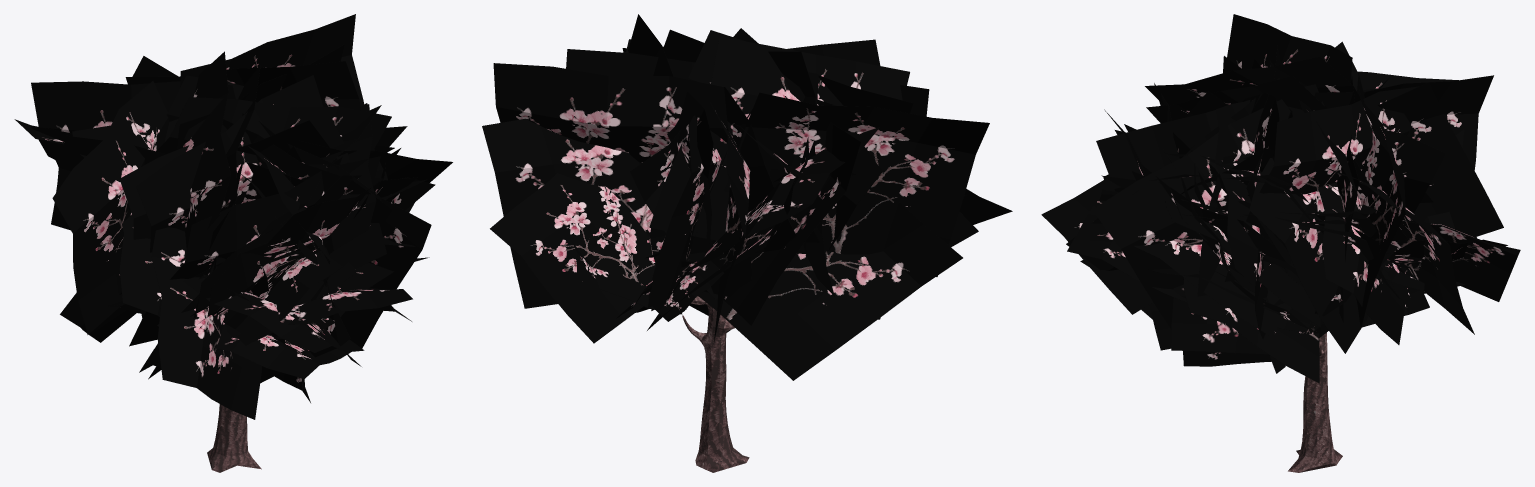
Rendered from arvore 5.fbx.
3 views of the same model, side by side, from view 1: azimuth 30°, elevation 25°; view 2: azimuth 150°, elevation 25°; view 3: azimuth 270°, elevation 25° (orthographic). The views are drawn at different scales.
Parts seen in each view (by area): view 1: arvore 5; view 2: arvore 5; view 3: arvore 5.
Part boxes in pixels (left/top/right/bottom): arvore 5: left=14, top=14, right=452, bottom=472; arvore 5: left=482, top=14, right=1012, bottom=472; arvore 5: left=1041, top=14, right=1520, bottom=472.
Bounding box in the file's own units: 1369 × 1340 × 1437.
1 material, 1 textured.
